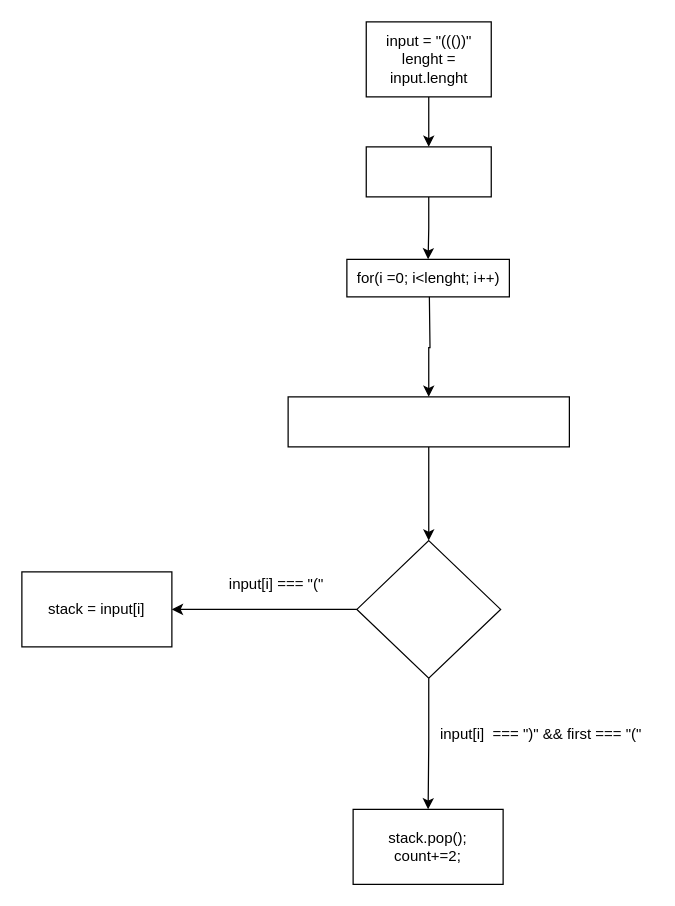
Image size: 675x906. Some labels were removed from this diagram. Here are the shapes that lost their labels. From the top down, the centre of each, then its label:
At [428,171]: "stack = [] count = 0".
At [428,421]: "stack = stack[stack.lenght - 1]".
